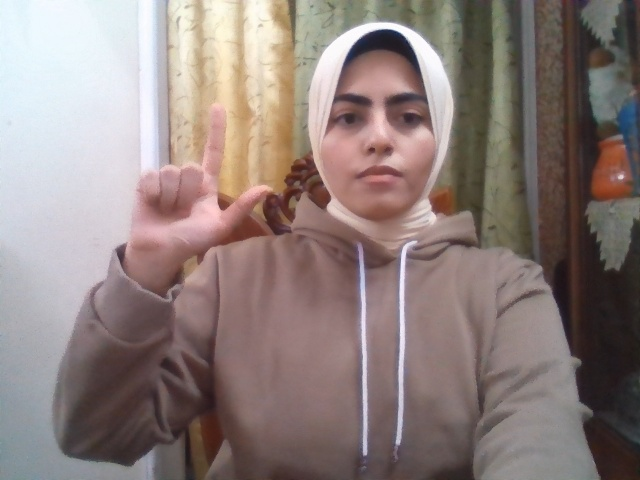L: (129, 102, 272, 256)
